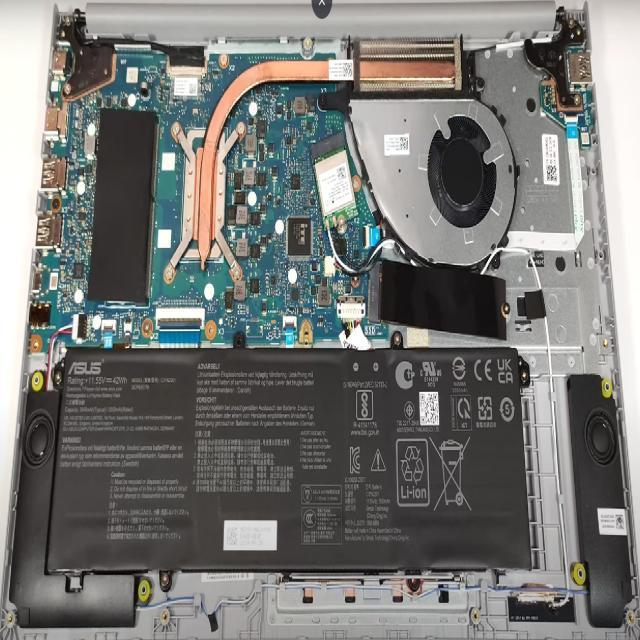Battery: (370, 258, 508, 342)
RAM: (48, 347, 535, 567)
